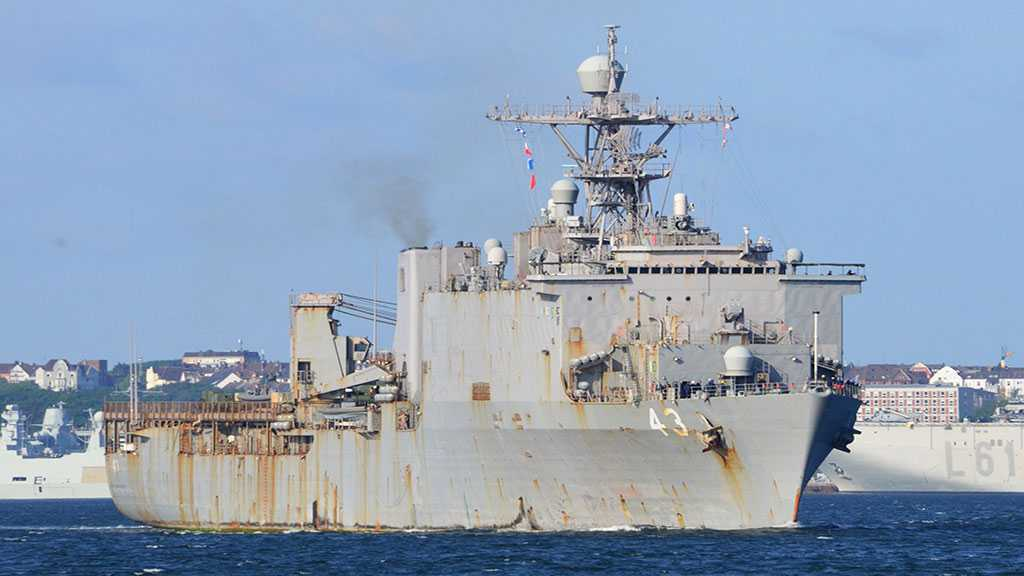rust: (169, 426, 338, 528), (694, 421, 752, 483), (466, 379, 499, 404), (570, 404, 593, 429)
